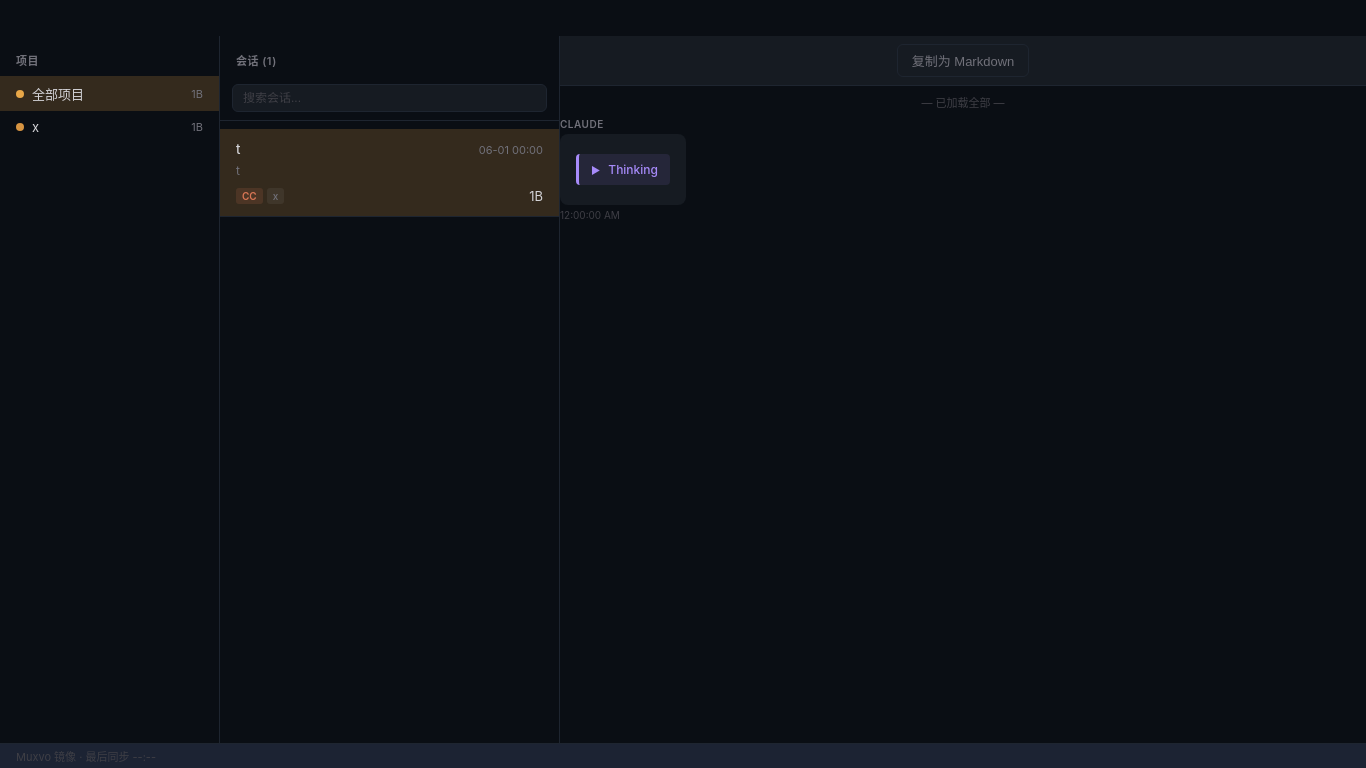
thinking 折叠块（live-only） › 默认折叠：header「Thinking」、无展开体；展开后走 markdown（**bold**→strong）
The image size is (1366, 768).
Check: the element with class "thinking-block" is shown, box [576, 154, 670, 185]
Check: the text with class "thinking-block__label" reads "Thinking", box [608, 162, 658, 177]
Click the element with class "thinking-block__header": (624, 170) [591, 162, 658, 177]
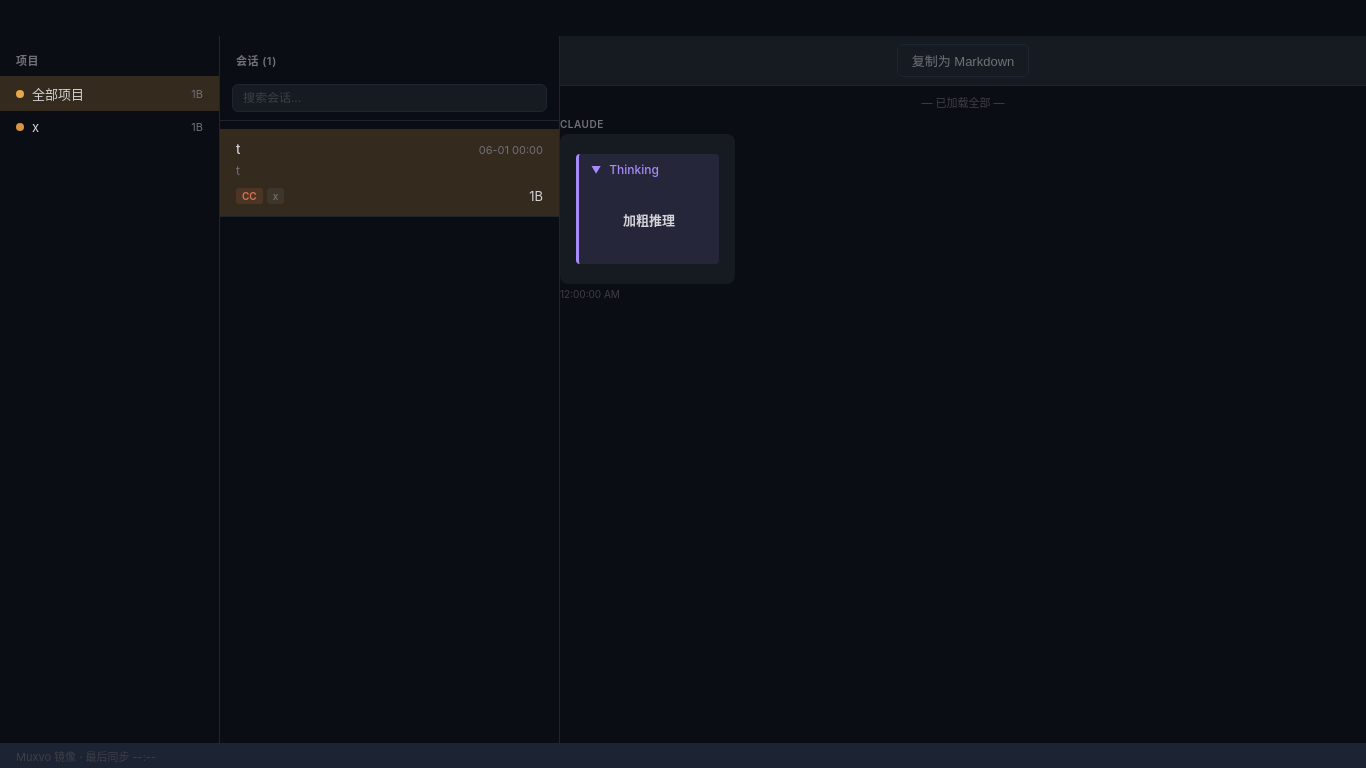
Check: the text "加粗推理" is shown, box [623, 212, 675, 228]
